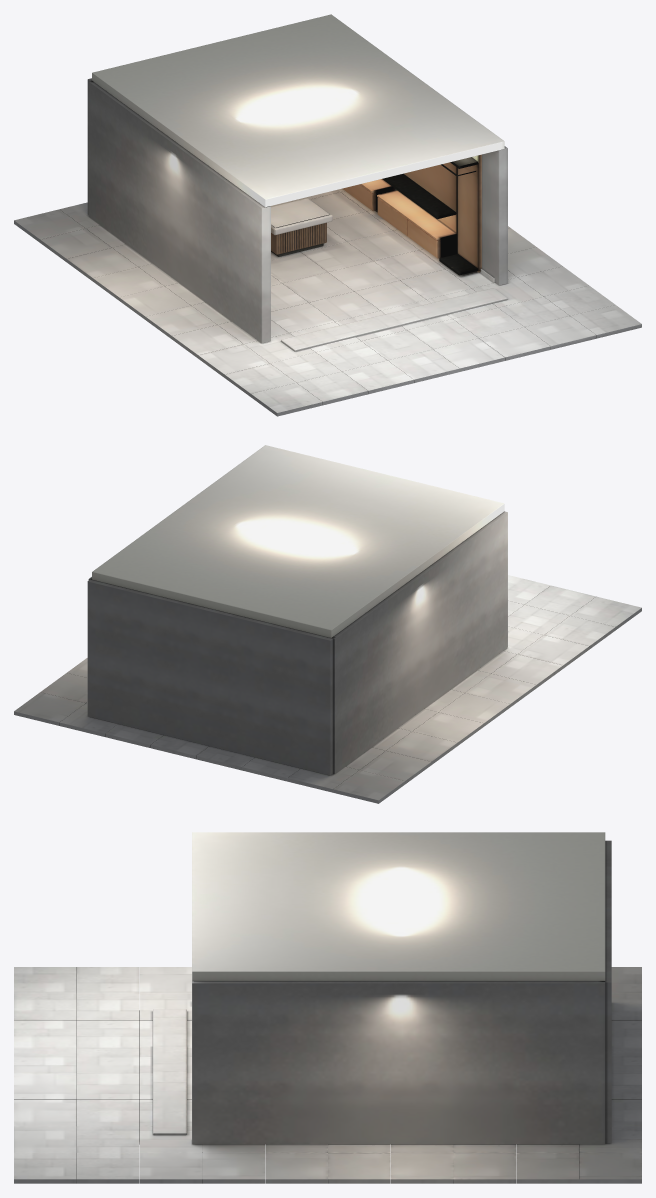
The model's file is architecture.glb.
3 renders of one model, top to bottom at view 1: azimuth 30°, elevation 25°; view 2: azimuth 150°, elevation 25°; view 3: azimuth 270°, elevation 25°, orthographic. The views are drawn at different scales.
Visible parts, largest first — view 1: ANQA_baked_architecture; view 2: ANQA_baked_architecture; view 3: ANQA_baked_architecture.
Part boxes in pixels (x1=…): ANQA_baked_architecture: x1=14, y1=14, x2=641, y2=416; ANQA_baked_architecture: x1=14, y1=445, x2=641, y2=803; ANQA_baked_architecture: x1=14, y1=832, x2=641, y2=1183.
Size of the model in its own units: 9.6 by 3.74 by 12.
1 material, 1 textured.
